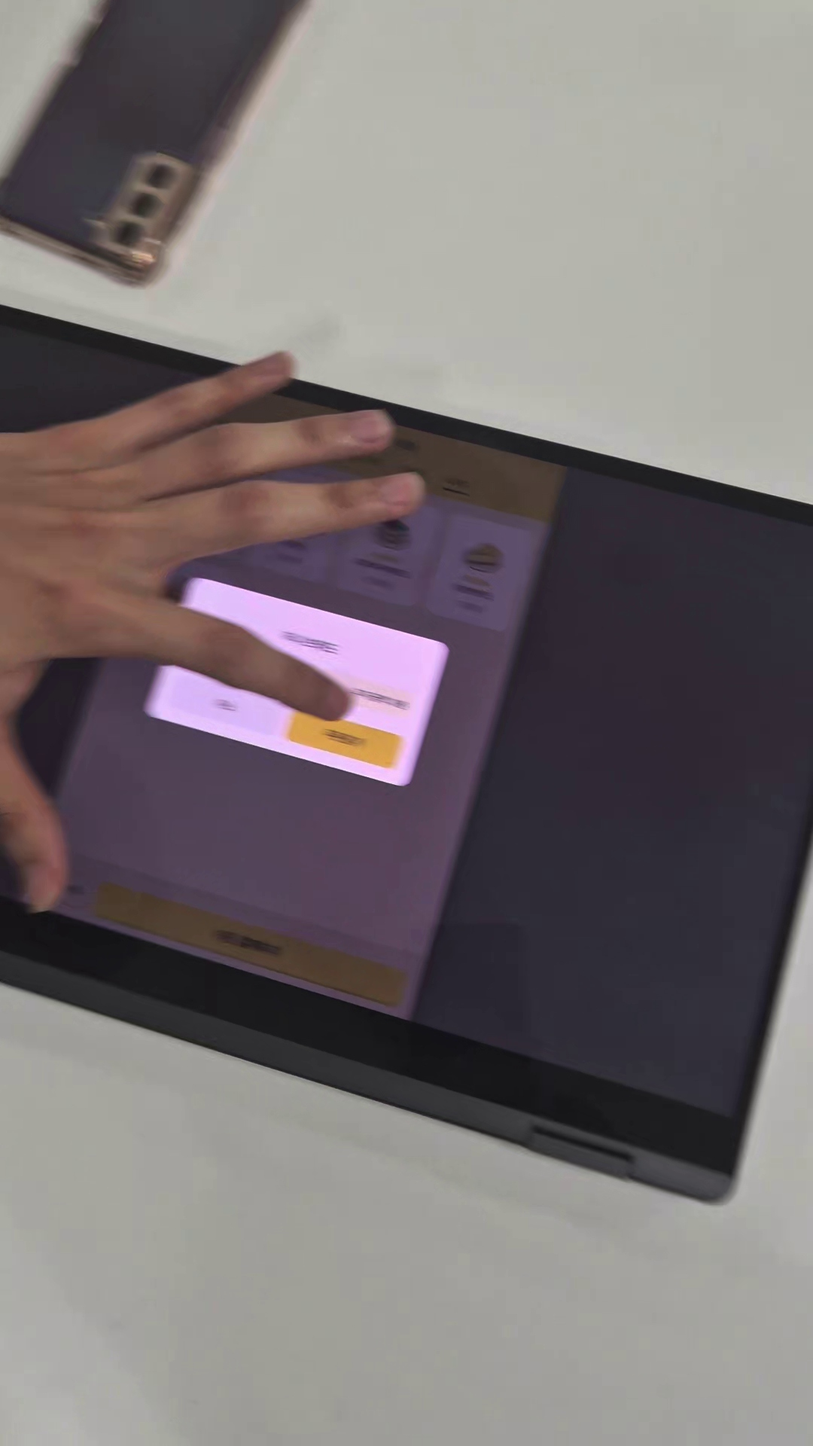action_button: (93, 882, 408, 1008), (285, 707, 403, 771), (171, 677, 283, 736)
menu_back: (335, 490, 443, 610), (425, 513, 532, 632)
popup_modal: (144, 574, 450, 787)
